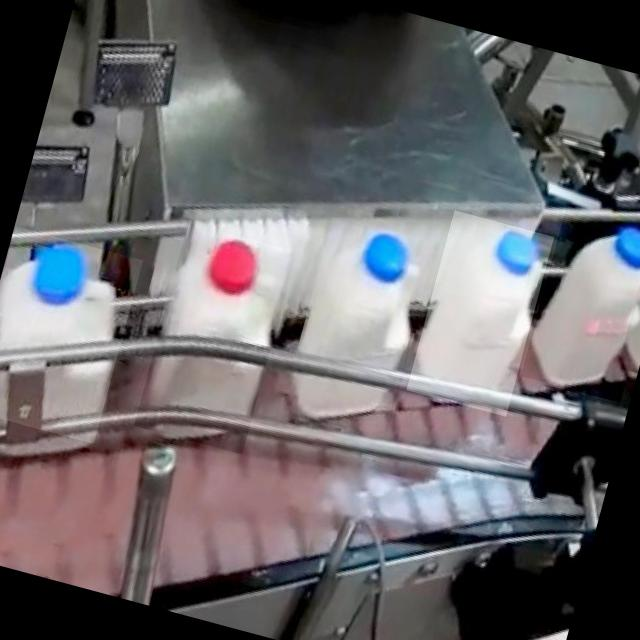milk: (272, 200, 440, 440), (143, 206, 306, 450), (0, 233, 148, 465), (408, 209, 556, 412), (526, 207, 640, 404)
